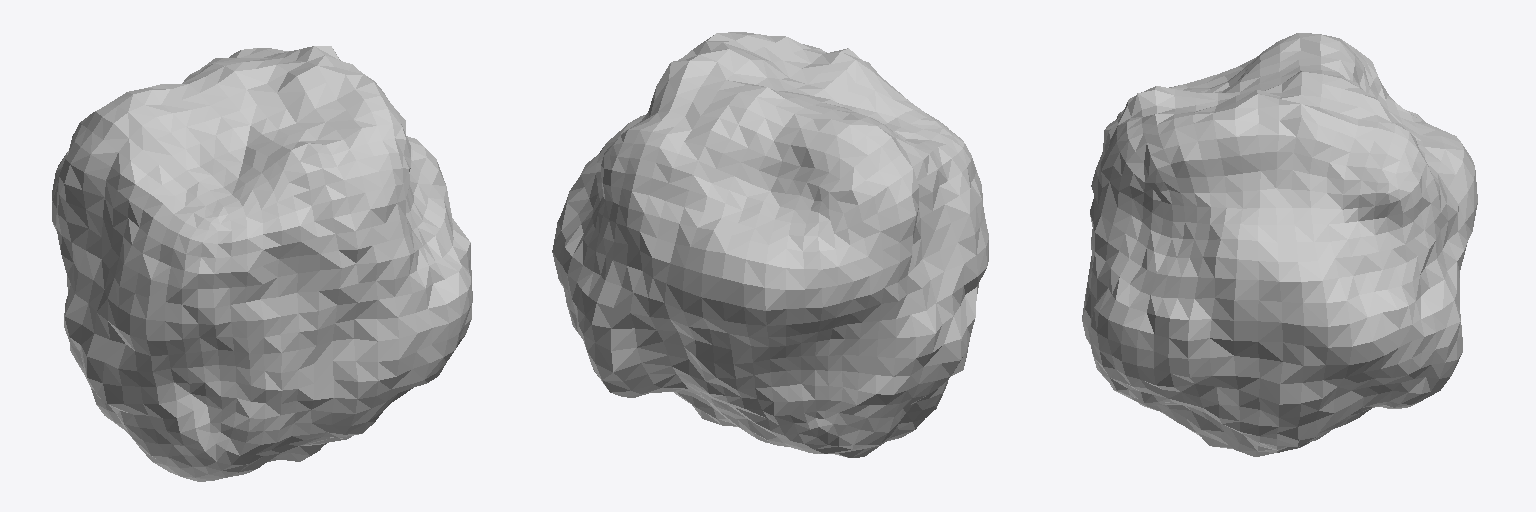
The model's file is rocktest.obj.
3 views of the same model, side by side, from view 1: azimuth 30°, elevation 25°; view 2: azimuth 150°, elevation 25°; view 3: azimuth 270°, elevation 25° (orthographic).
Visible parts, largest first — view 1: Mesh_Stone_F_1_Stone_F_1; view 2: Mesh_Stone_F_1_Stone_F_1; view 3: Mesh_Stone_F_1_Stone_F_1.
Part boxes in pixels (left/top/right/bottom): Mesh_Stone_F_1_Stone_F_1: left=52, top=46, right=472, bottom=481; Mesh_Stone_F_1_Stone_F_1: left=552, top=32, right=988, bottom=457; Mesh_Stone_F_1_Stone_F_1: left=1082, top=33, right=1477, bottom=456.
Bounding box in the file's own units: 576 × 566 × 545.